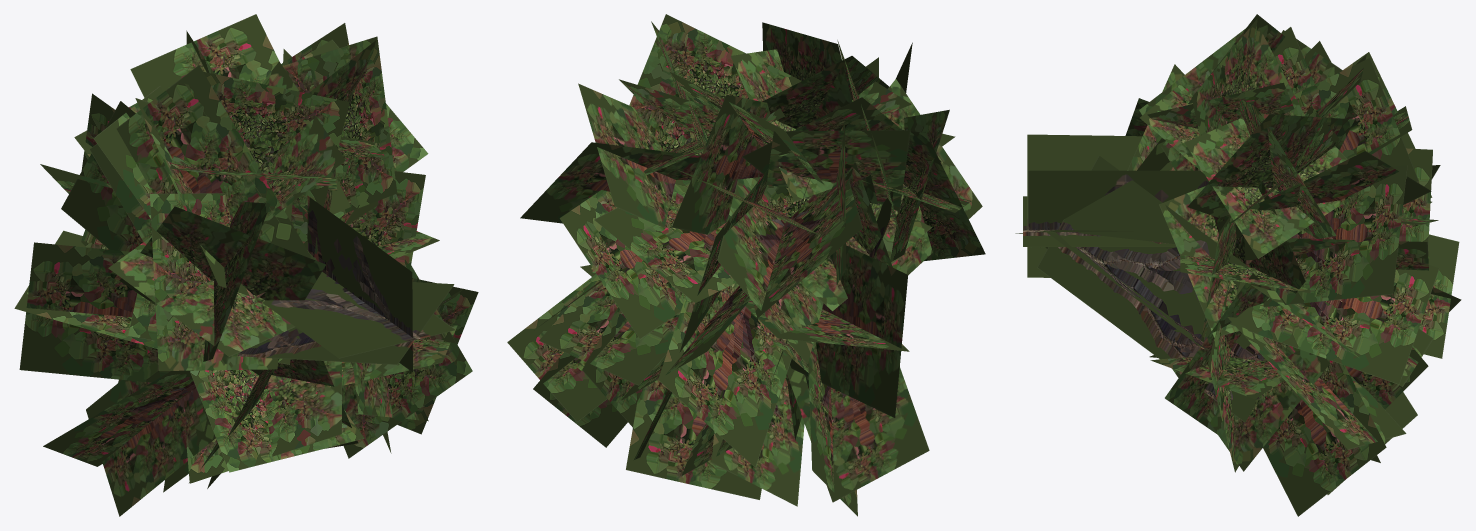
The model's file is Bush1.fbx.
3 renders of one model, left to right at view 1: azimuth 30°, elevation 25°; view 2: azimuth 150°, elevation 25°; view 3: azimuth 270°, elevation 25°, orthographic. The views are drawn at different scales.
Parts seen in each view (by area): view 1: Bush1; view 2: Bush1; view 3: Bush1.
Part boxes in pixels (x1,y1,x2,y2): Bush1: [14, 14, 478, 516]; Bush1: [507, 14, 985, 516]; Bush1: [1015, 14, 1461, 516].
Bounding box in the file's own units: 22.82 × 23.98 × 23.61.
